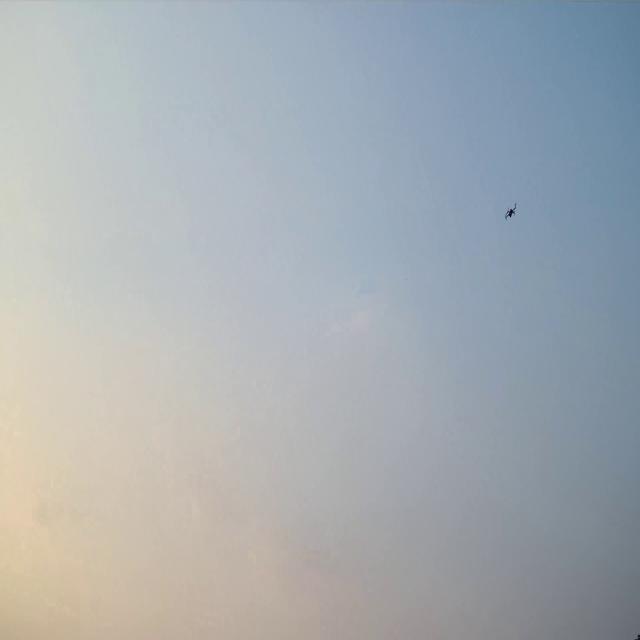UAV: (504, 201, 518, 222)
